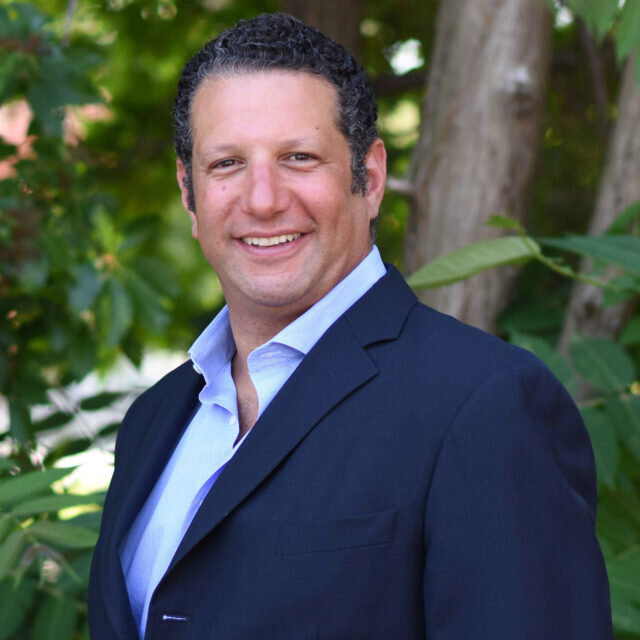human: (173, 39, 376, 295)
